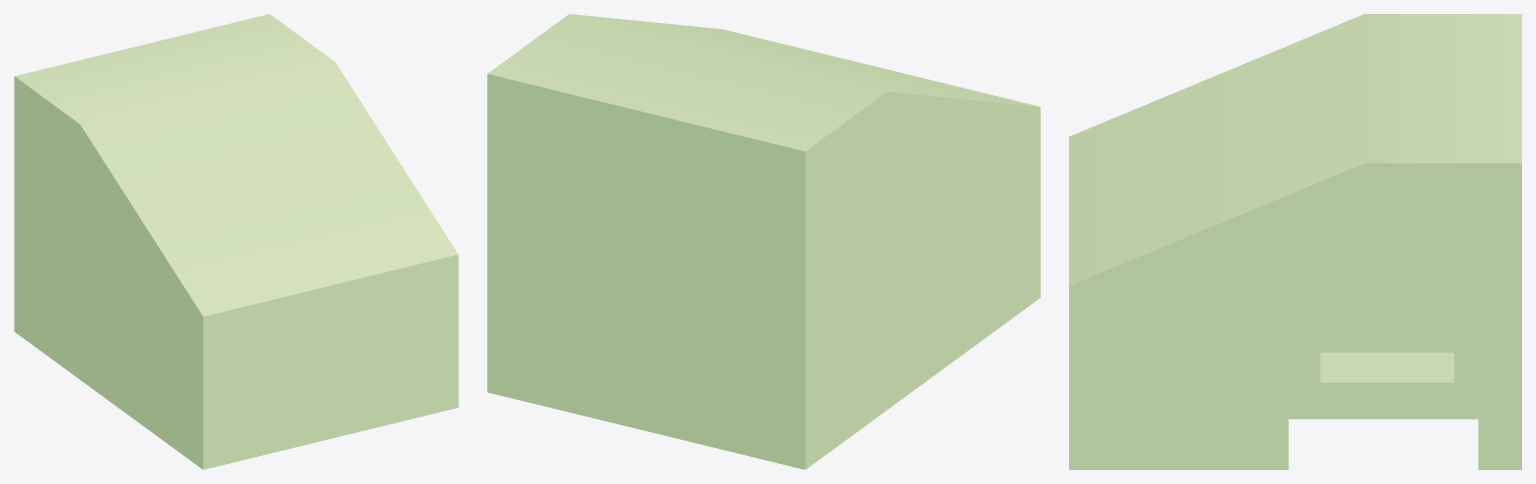
Rendered from House1.fbx.
3 views of the same model, side by side, from view 1: azimuth 30°, elevation 25°; view 2: azimuth 150°, elevation 25°; view 3: azimuth 270°, elevation 25° (orthographic). The views are drawn at different scales.
Visible parts, largest first — view 1: polySurface3; view 2: polySurface3; view 3: polySurface3.
Part boxes in pixels (x1=…): polySurface3: x1=14, y1=14, x2=458, y2=469; polySurface3: x1=487, y1=14, x2=1040, y2=469; polySurface3: x1=1069, y1=14, x2=1521, y2=469.
Size of the model in its own units: 6.65 by 6.37 by 8.53.
